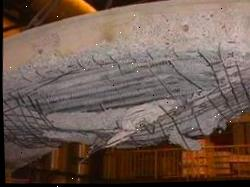spalling: (2, 4, 250, 150)
